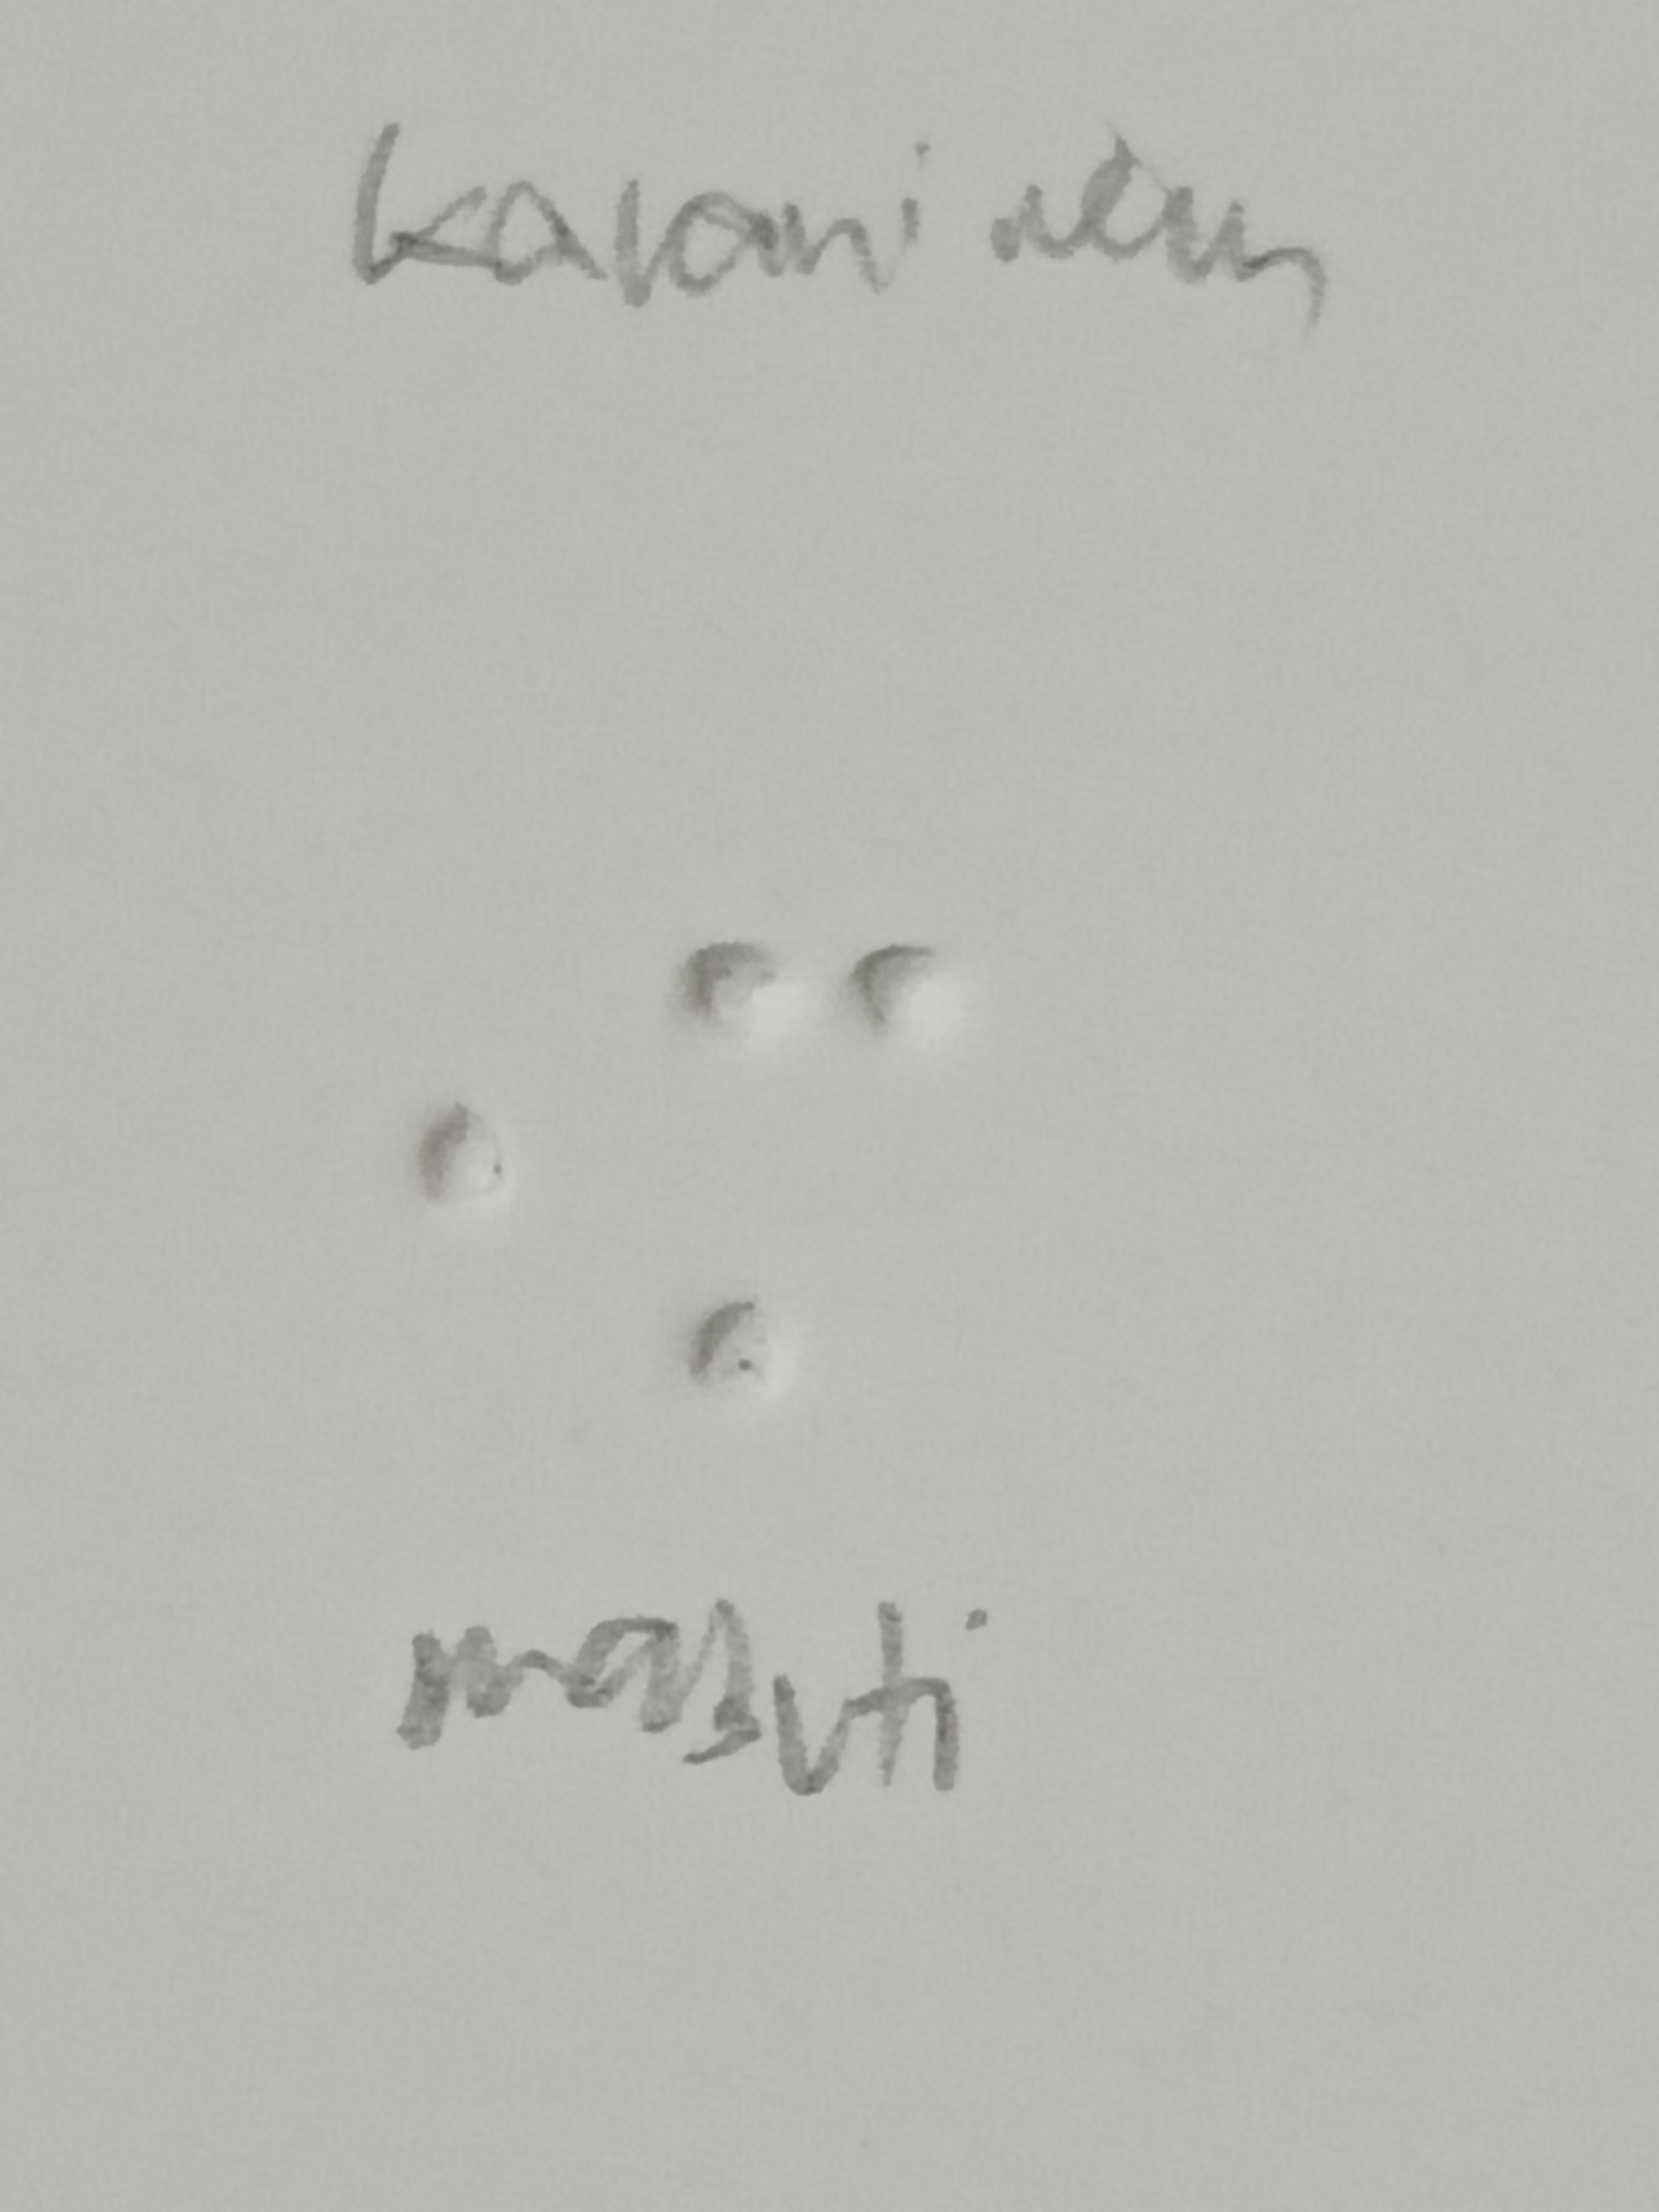dot_5: (237, 934, 526, 1420)
two_cell_alphabet_mabuti: (676, 925, 965, 1411)
